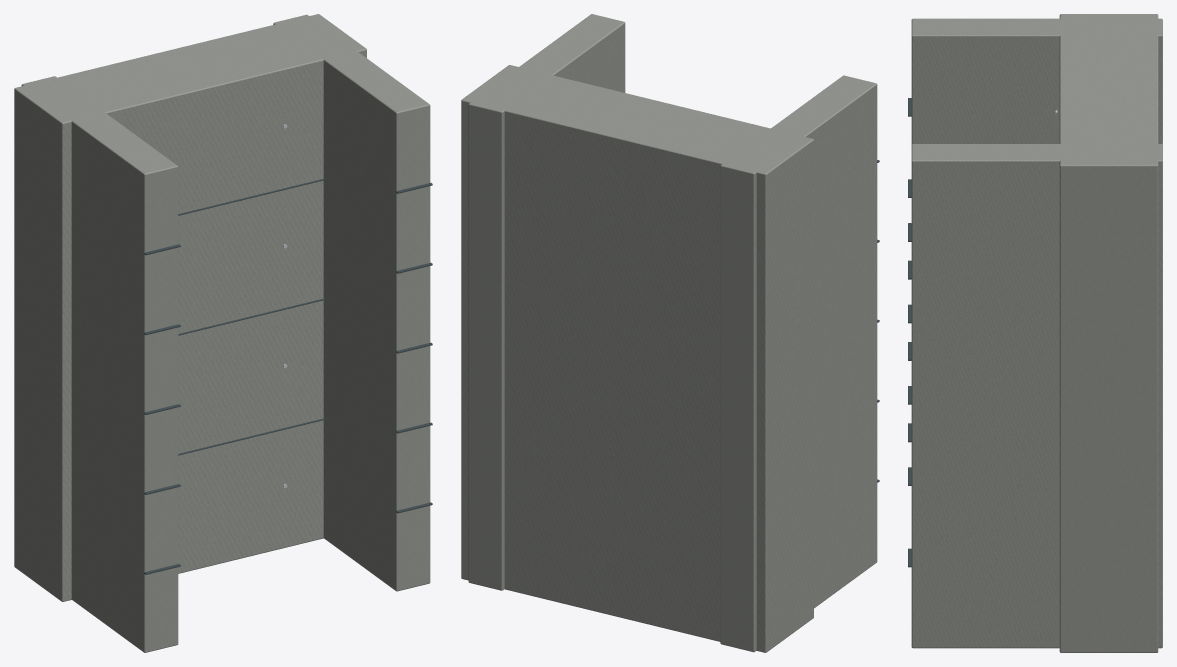
The model's file is hydroelectric-dam-infiltration-dam-wall-straight-81c82072__29327.glb.
3 views of the same model, side by side, from view 1: azimuth 30°, elevation 25°; view 2: azimuth 150°, elevation 25°; view 3: azimuth 270°, elevation 25° (orthographic).
Visible parts, largest first — view 1: dam-wall-straight; view 2: dam-wall-straight; view 3: dam-wall-straight.
Part boxes in pixels (bbox=[...]): dam-wall-straight: bbox=[14, 14, 432, 652]; dam-wall-straight: bbox=[461, 14, 879, 652]; dam-wall-straight: bbox=[908, 14, 1162, 652].
Size of the model in its own units: 4 by 6 by 2.84.
Materials: 3 (1 with a texture image).
